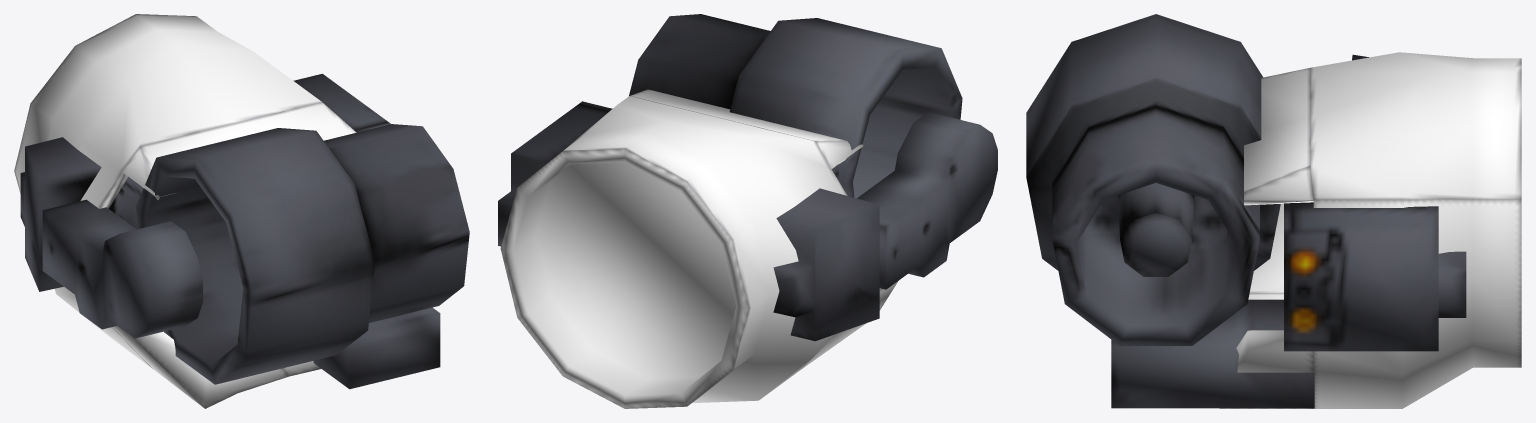
The model's file is r_uarm.obj.
The picture shows the model from 3 angles, left to right: view 1: azimuth 30°, elevation 25°; view 2: azimuth 150°, elevation 25°; view 3: azimuth 270°, elevation 25°; orthographic projection. The views are drawn at different scales.
Parts seen in each view (by area): view 1: <dummy_root>; view 2: <dummy_root>; view 3: <dummy_root>.
Boxes of the visible parts, x1=… form: <dummy_root>: x1=14, y1=14, x2=469, y2=408; <dummy_root>: x1=498, y1=14, x2=997, y2=408; <dummy_root>: x1=1026, y1=14, x2=1521, y2=408.
Bounding box in the file's own units: 0.1475 × 0.1261 × 0.1769.
1 material, 1 textured.
